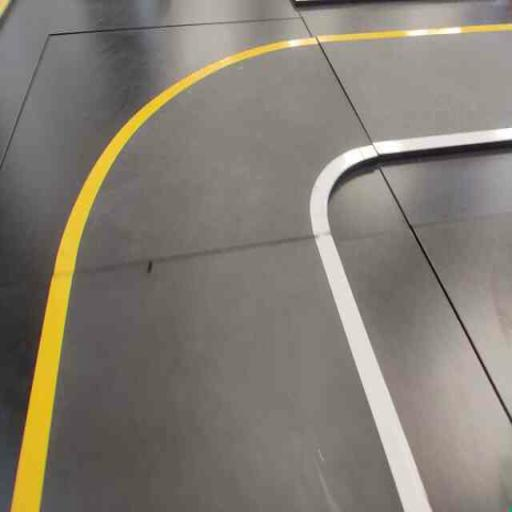right: (45, 6, 410, 276)
